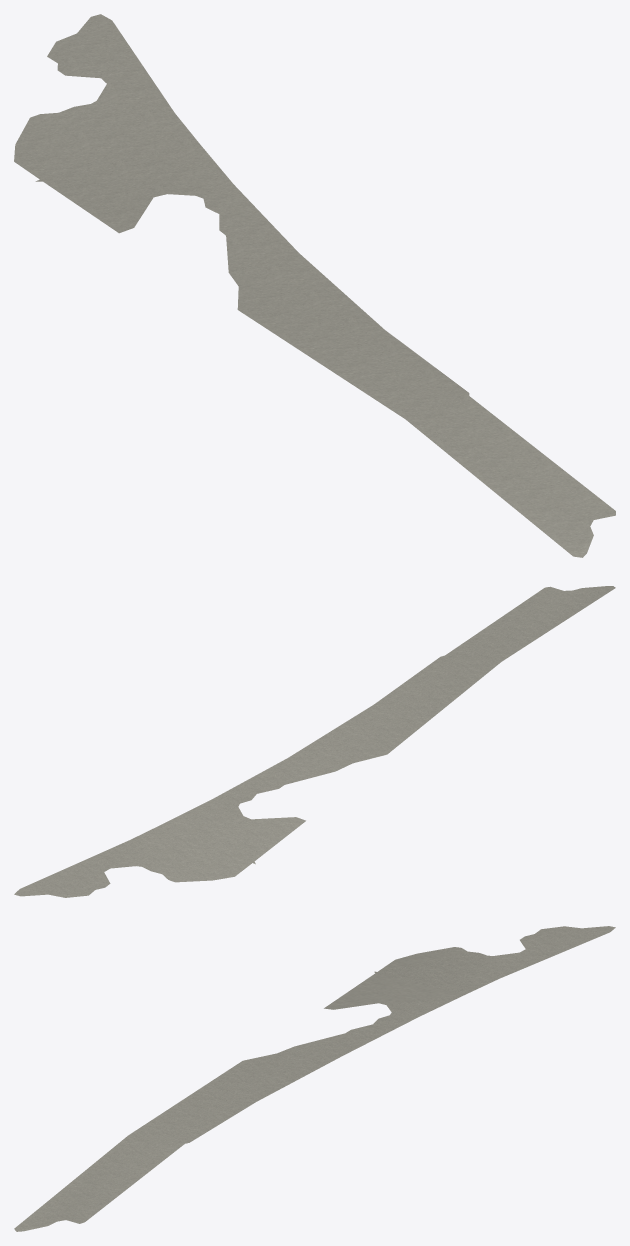
File: path_04.gltf
3 renders of one model, top to bottom at view 1: azimuth 30°, elevation 25°; view 2: azimuth 150°, elevation 25°; view 3: azimuth 330°, elevation 25°, orthographic. The views are drawn at different scales.
Parts seen in each view (by area): view 1: path_04.surface; view 2: path_04.surface; view 3: path_04.surface.
Boxes of the visible parts, <box> form: path_04.surface: <box>14,14,615,557</box>; path_04.surface: <box>14,586,615,897</box>; path_04.surface: <box>14,926,615,1231</box>.
Size of the model in its own units: 6.9 by 0.8858 by 35.29.
1 material, 1 textured.
